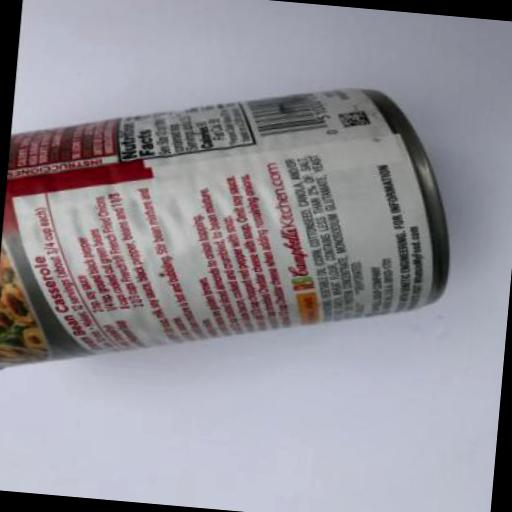metal: (0, 59, 461, 414)
